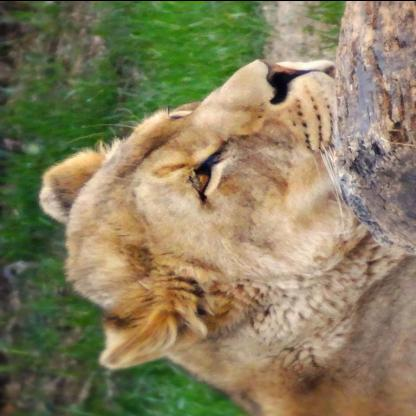lion: (31, 52, 367, 372)
